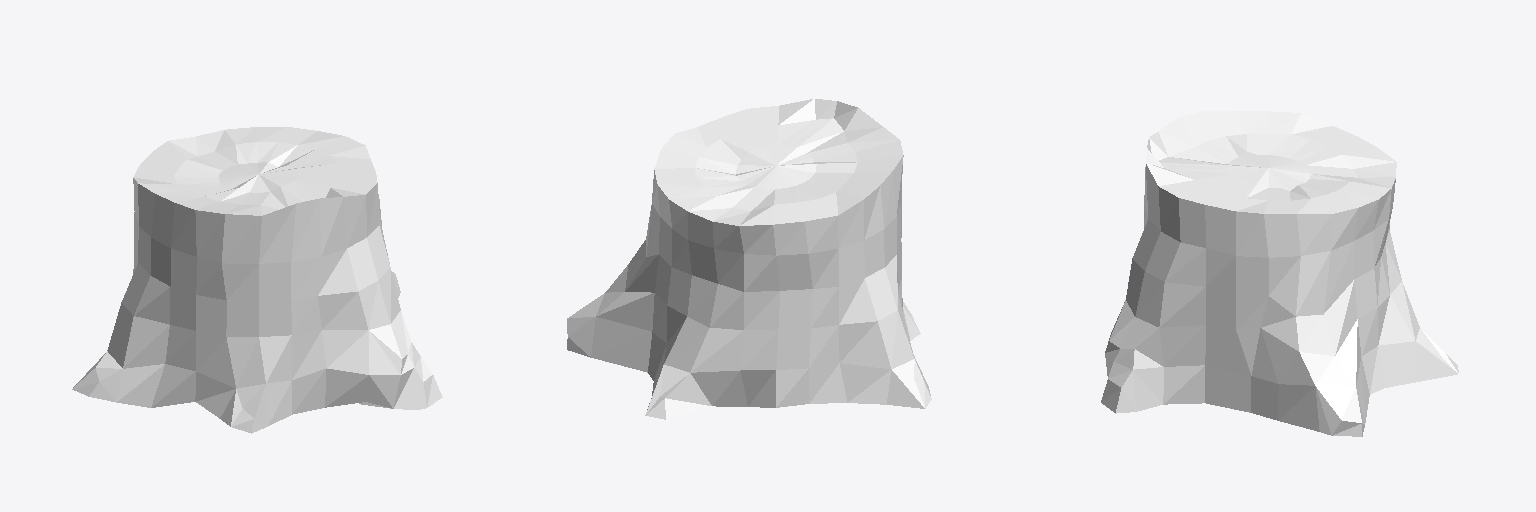
File: ert.obj
The picture shows the model from 3 angles: view 1: azimuth 30°, elevation 25°; view 2: azimuth 150°, elevation 25°; view 3: azimuth 270°, elevation 25°; orthographic projection.
Visible parts, largest first — view 1: Cone001; view 2: Cone001; view 3: Cone001.
Part boxes in pixels (left/top/right/bottom): Cone001: left=72, top=127, right=442, bottom=433; Cone001: left=567, top=99, right=931, bottom=419; Cone001: left=1101, top=111, right=1458, bottom=436.
Bounding box in the file's own units: 106 × 63.33 × 96.24.